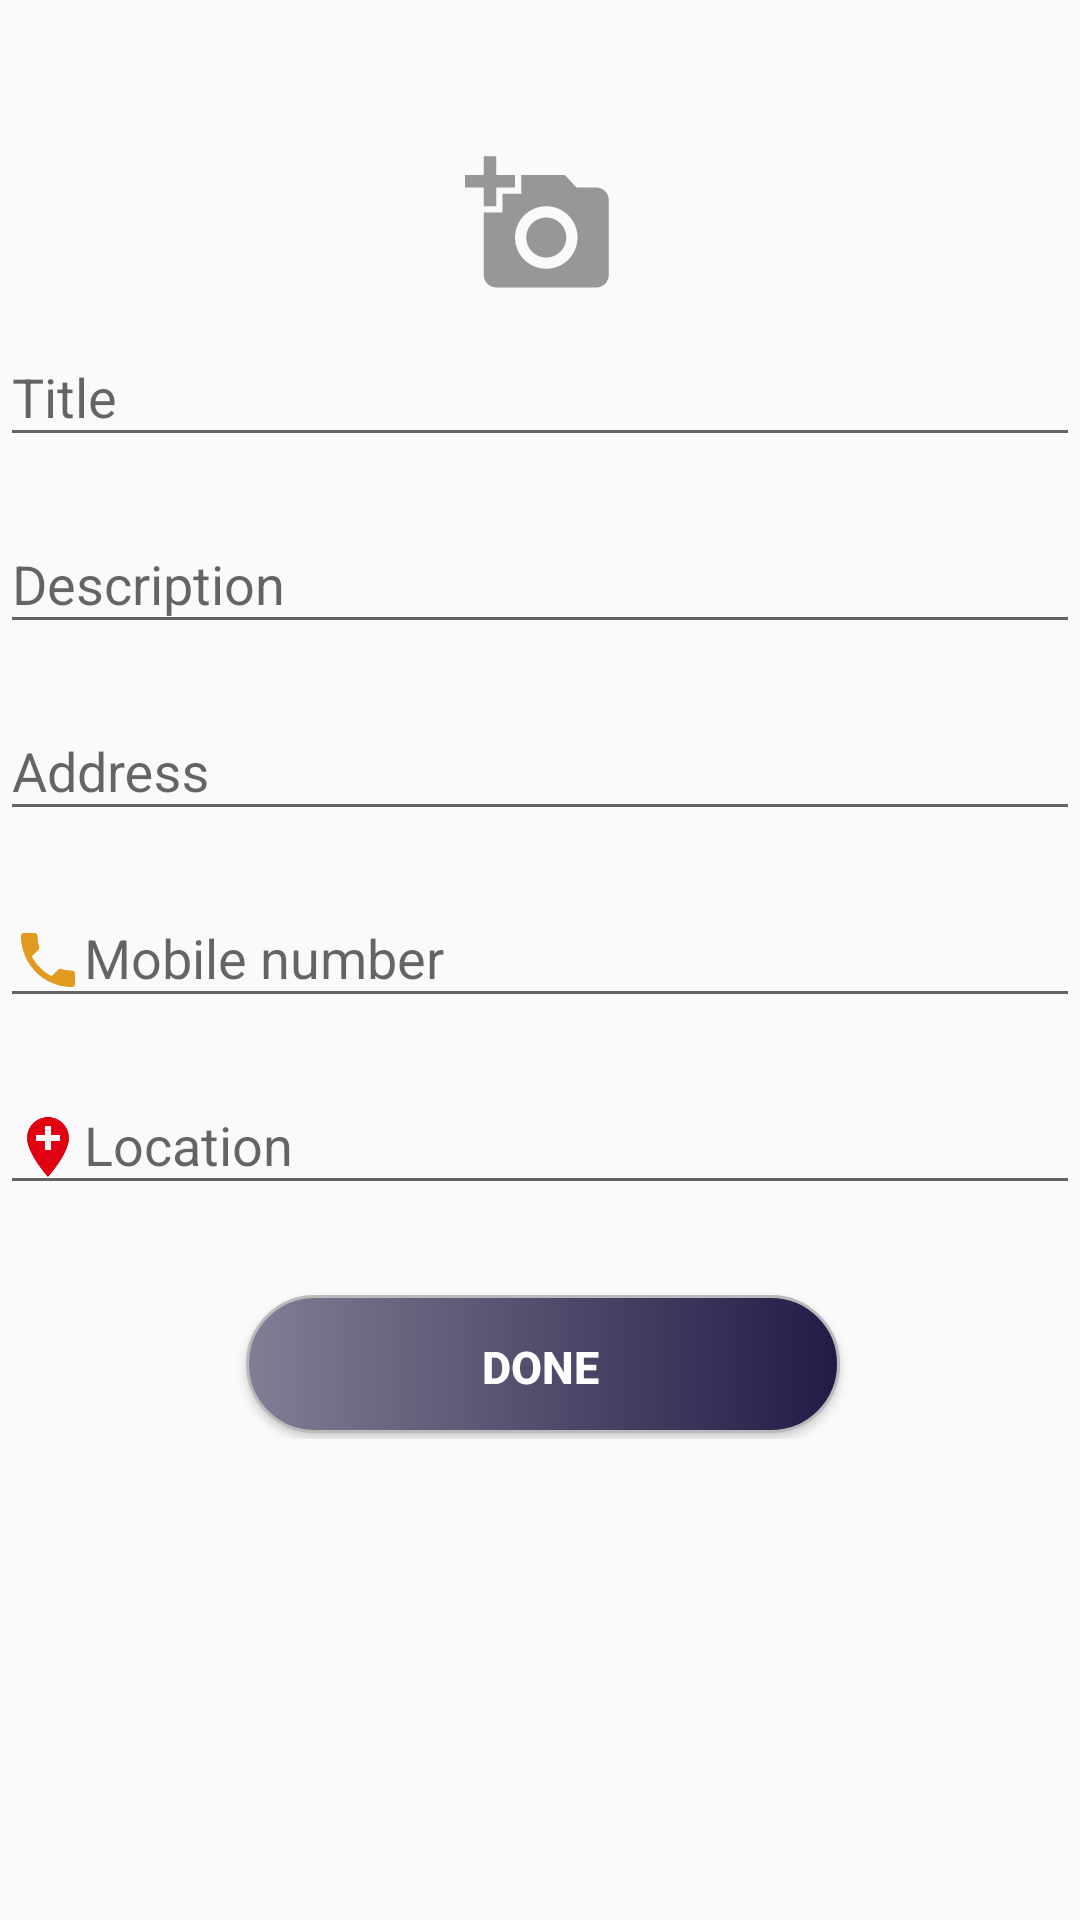

Named icons in this screenshot (1080w x 1920h) and their bounding boxes, bbox=(x1, y1, x2, y2):
addaphoto: bbox=(465, 156, 609, 288)
